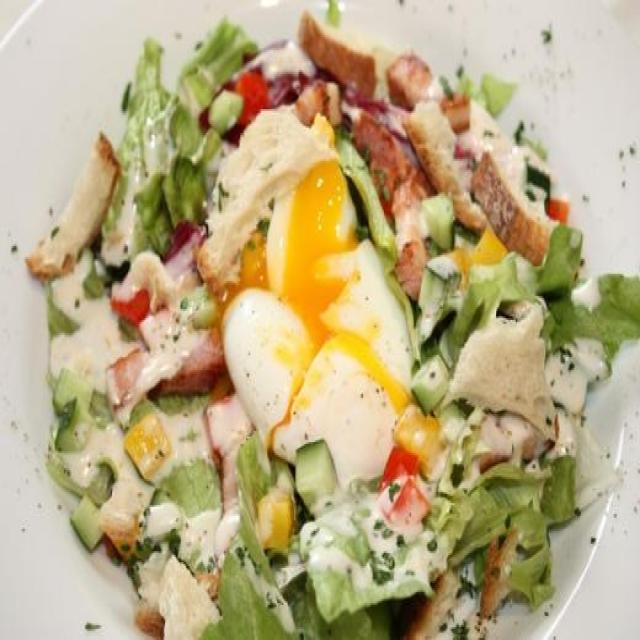蔬菜料理: (17, 9, 622, 629)
